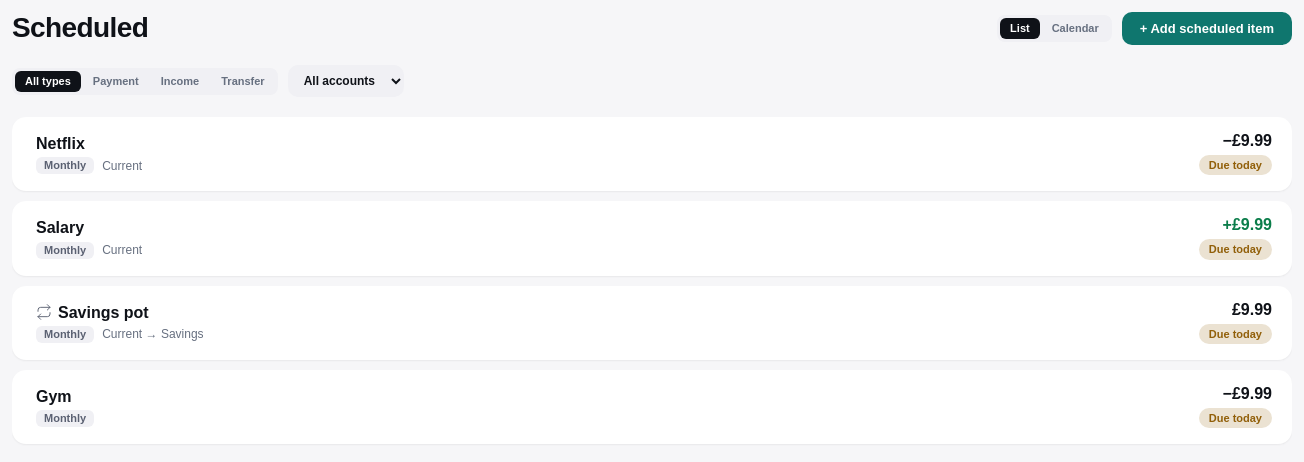
Scheduled screen filters › narrows the list to one account, including transfers into it
Step 1. Select "Savings" in the dropdown named "Account" → (346, 81), box [288,65,404,97]
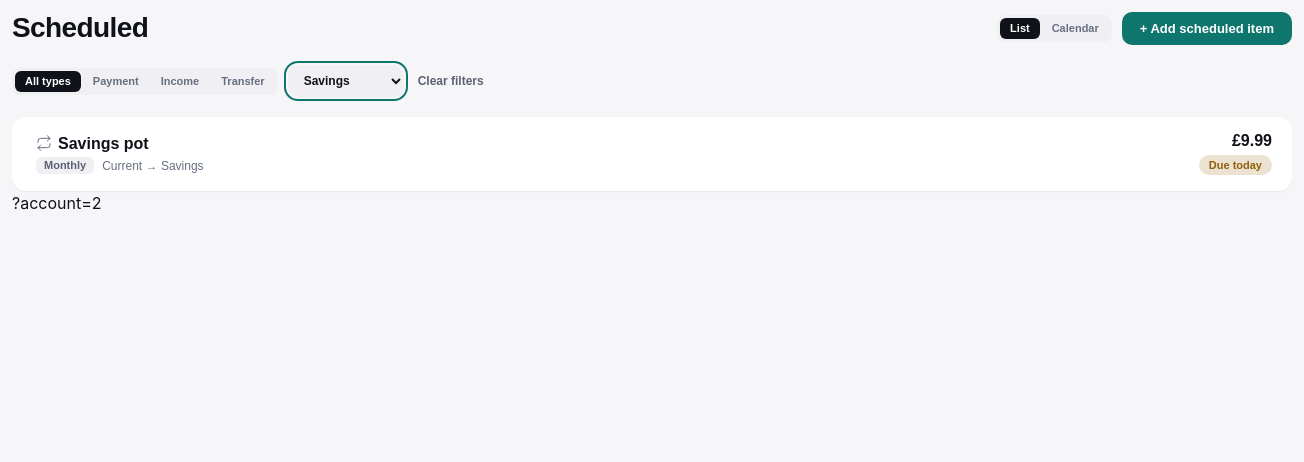
Expected: the text with test id "location" reads "?account=2", [12,193,102,213]
